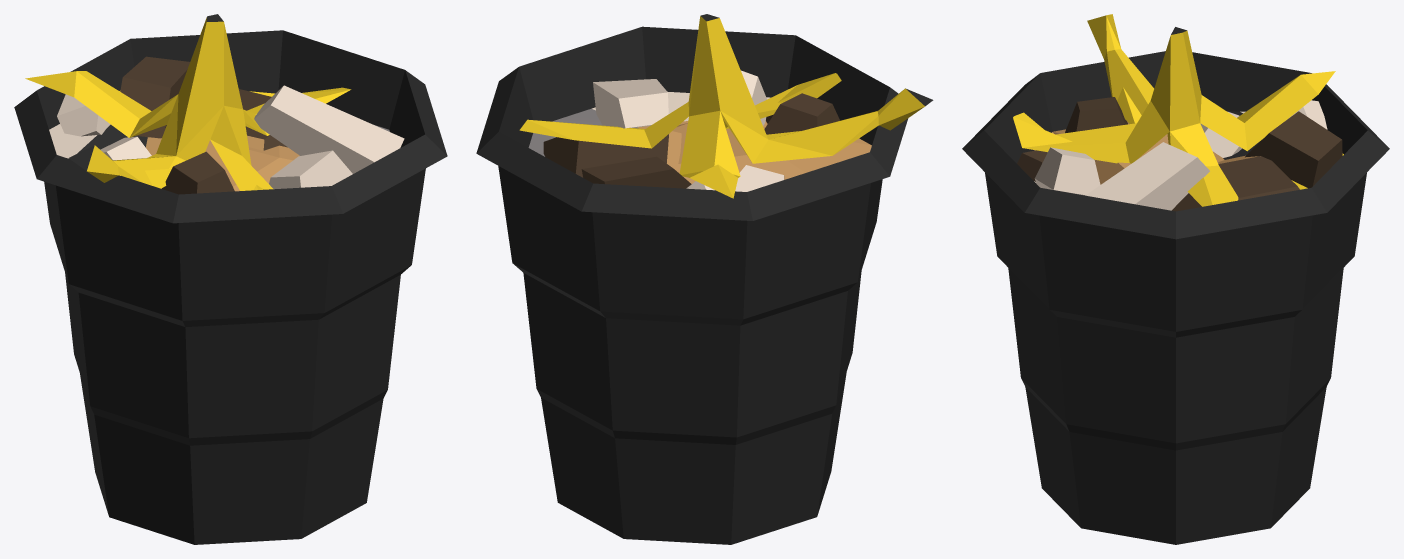
Rendered from furniture_bin-house-small-full.fbx.
3 views of the same model, side by side, from view 1: azimuth 30°, elevation 25°; view 2: azimuth 150°, elevation 25°; view 3: azimuth 270°, elevation 25° (orthographic). The views are drawn at different scales.
Parts seen in each view (by area): view 1: furniture_bin_house_small_full; view 2: furniture_bin_house_small_full; view 3: furniture_bin_house_small_full.
Part boxes in pixels (x1,y1,x2,y2): furniture_bin_house_small_full: (14,14,447,544); furniture_bin_house_small_full: (476,14,933,544); furniture_bin_house_small_full: (962,14,1389,544).
Size of the model in its own units: 173 by 200 by 172.
